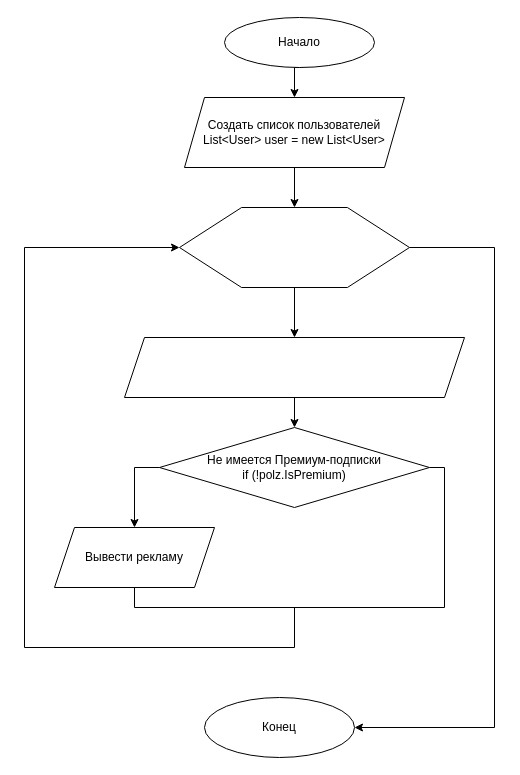
Image size: 520x775. Some labels were removed from this diagram. Here are the shapes that lost their labels. From the top down, the centre of each, then its label:
(x=294, y=247): Цикл по пользователям foreach (User polz in user)
(x=294, y=367): Вывести приветствие Console.WriteLine("Здравствуйте {0}! ", polz.Name);
